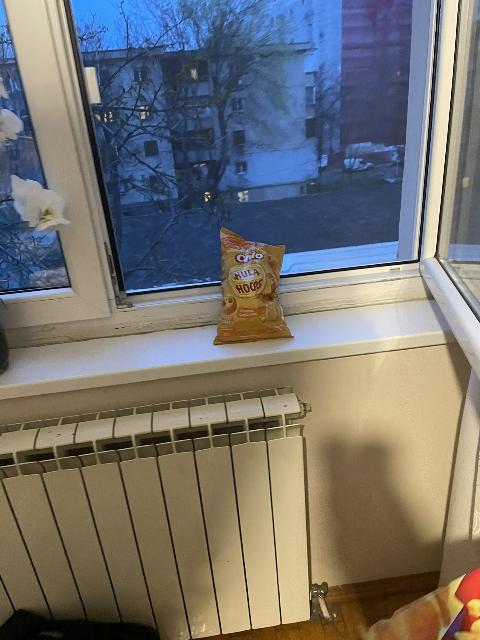Chio Hula Hoops Cheese 70g: (211, 227, 292, 343)
